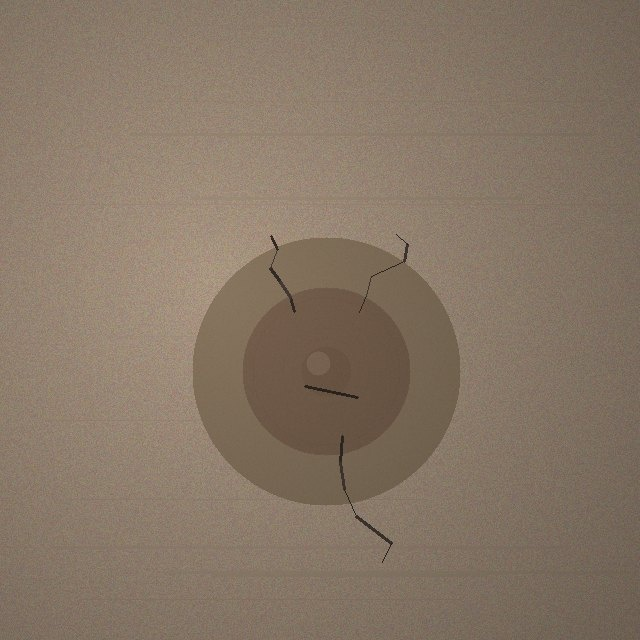crack: (192, 237, 460, 505)
